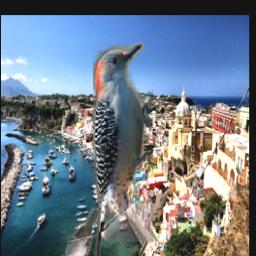Cuckoo: (58, 209, 101, 256)
Woodpecker: (93, 37, 153, 256)
